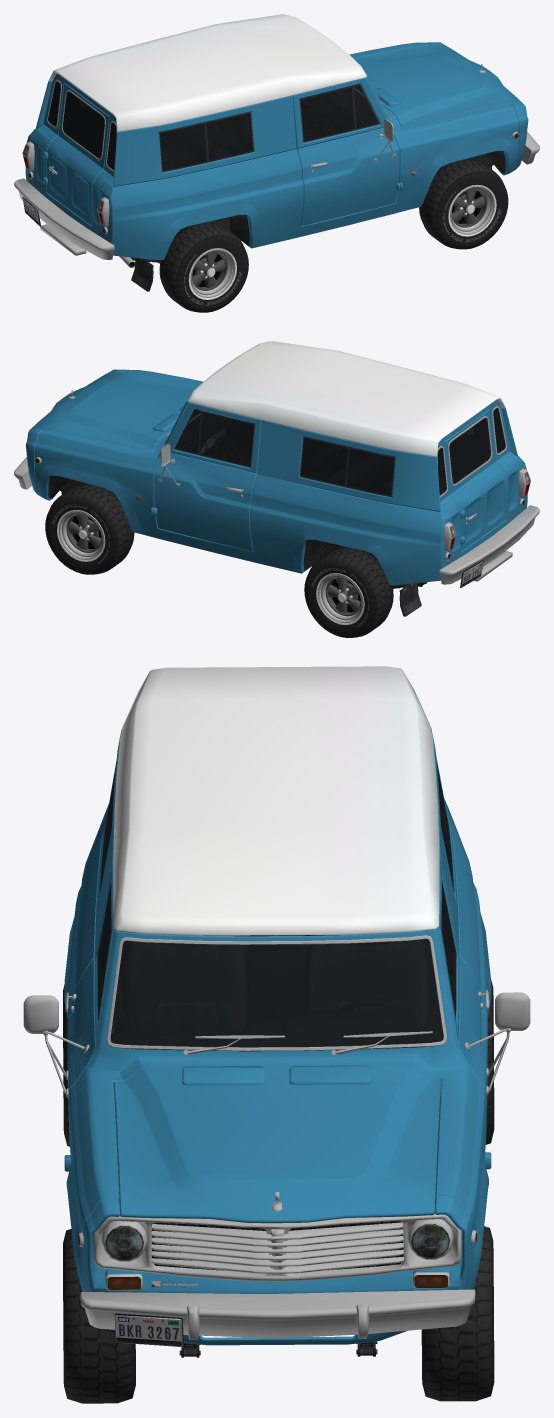
The model's file is bokaroo-suv.glb.
The picture shows the model from 3 angles, top to bottom: view 1: azimuth 30°, elevation 25°; view 2: azimuth 150°, elevation 25°; view 3: azimuth 270°, elevation 25°; orthographic projection. The views are drawn at different scales.
Visible parts, largest first — view 1: Bokaroo67_Body_BUCKAROO_67_Bodymat_0, Bokaroo67_Bumper_rear_UCB_BOTTOM_0, Bokaroo67_WheelStock_FL_RO1a_Tire_0, Bokaroo67_rear_door_glass_UCB_Lights_and_Glass_Transperent_0, Bokaroo67_Interior_UCB_Interiors_2_0; view 2: Bokaroo67_Body_BUCKAROO_67_Bodymat_0, Bokaroo67_Bumper_rear_UCB_BOTTOM_0, Bokaroo67_WheelStock_FL_RO1a_Tire_0, Bokaroo67_rear_door_glass_UCB_Lights_and_Glass_Transperent_0, Bokaroo67_Interior_UCB_Interiors_2_0; view 3: Bokaroo67_Bumper_rear_UCB_BOTTOM_0, Bokaroo67_Body_BUCKAROO_67_Bodymat_0, Bokaroo67_rear_door_glass_UCB_Lights_and_Glass_Transperent_0, Bokaroo67_Interior_UCB_Interiors_2_0, Bokaroo67_WheelStock_FL_RO1a_Tire_0, Bokaroo67_Reverse_UCB_Lights_and_Glass_0, Bokaroo67_Numberplate_Rear_Numberplates_Misk_U_0.
Boxes of the visible parts, left/top/right/bottom form: Bokaroo67_Body_BUCKAROO_67_Bodymat_0: left=25, top=42, right=528, bottom=259; Bokaroo67_Bumper_rear_UCB_BOTTOM_0: left=14, top=14, right=539, bottom=291; Bokaroo67_WheelStock_FL_RO1a_Tire_0: left=159, top=159, right=508, bottom=312; Bokaroo67_rear_door_glass_UCB_Lights_and_Glass_Transperent_0: left=48, top=81, right=378, bottom=170; Bokaroo67_Interior_UCB_Interiors_2_0: left=48, top=82, right=376, bottom=169; Bokaroo67_Body_BUCKAROO_67_Bodymat_0: left=25, top=369, right=527, bottom=585; Bokaroo67_Bumper_rear_UCB_BOTTOM_0: left=14, top=341, right=539, bottom=616; Bokaroo67_WheelStock_FL_RO1a_Tire_0: left=45, top=484, right=393, bottom=637; Bokaroo67_rear_door_glass_UCB_Lights_and_Glass_Transperent_0: left=175, top=408, right=505, bottom=495; Bokaroo67_Interior_UCB_Interiors_2_0: left=177, top=408, right=504, bottom=494; Bokaroo67_Bumper_rear_UCB_BOTTOM_0: left=23, top=666, right=530, bottom=1357; Bokaroo67_Body_BUCKAROO_67_Bodymat_0: left=64, top=728, right=491, bottom=1345; Bokaroo67_rear_door_glass_UCB_Lights_and_Glass_Transperent_0: left=98, top=763, right=455, bottom=1047; Bokaroo67_Interior_UCB_Interiors_2_0: left=102, top=822, right=452, bottom=1051; Bokaroo67_WheelStock_FL_RO1a_Tire_0: left=63, top=980, right=494, bottom=1403; Bokaroo67_Reverse_UCB_Lights_and_Glass_0: left=105, top=1224, right=449, bottom=1260; Bokaroo67_Numberplate_Rear_Numberplates_Misk_U_0: left=114, top=1315, right=182, bottom=1346.
Bounding box in the file's own units: 4.59 × 1.96 × 2.21.
8 materials, 7 textured.
